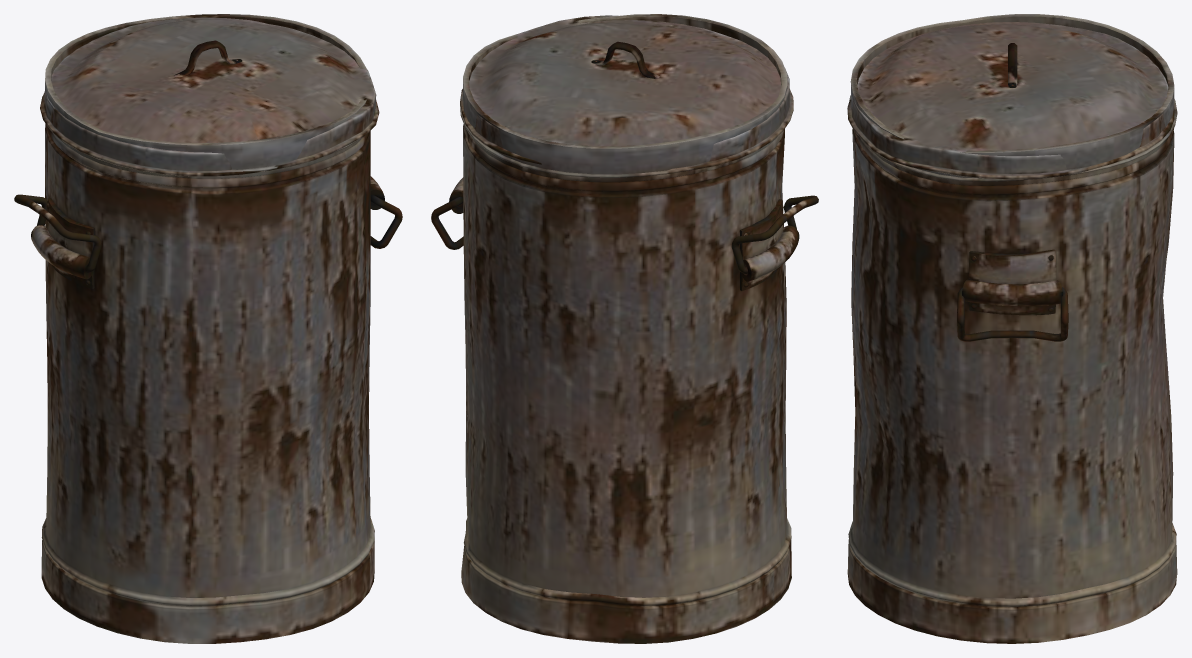
The model's file is trash-can.glb.
3 views of the same model, side by side, from view 1: azimuth 30°, elevation 25°; view 2: azimuth 150°, elevation 25°; view 3: azimuth 270°, elevation 25° (orthographic).
Parts seen in each view (by area): view 1: metal_trash_can_rust, metal_trash_can_rust_lid, metal_trash_can_rust_handle_left, metal_trash_can_rust_handle_right; view 2: metal_trash_can_rust, metal_trash_can_rust_lid, metal_trash_can_rust_handle_left, metal_trash_can_rust_handle_right; view 3: metal_trash_can_rust, metal_trash_can_rust_lid, metal_trash_can_rust_handle_right.
Part boxes in pixels (x1,y1,x2,y2): metal_trash_can_rust: (31, 14, 384, 643); metal_trash_can_rust_lid: (40, 17, 379, 176); metal_trash_can_rust_handle_left: (14, 194, 101, 272); metal_trash_can_rust_handle_right: (370, 195, 402, 248); metal_trash_can_rust: (449, 14, 799, 643); metal_trash_can_rust_lid: (460, 15, 793, 170); metal_trash_can_rust_handle_left: (731, 195, 818, 273); metal_trash_can_rust_handle_right: (431, 196, 463, 249); metal_trash_can_rust: (847, 14, 1177, 643); metal_trash_can_rust_lid: (847, 22, 1174, 179); metal_trash_can_rust_handle_right: (957, 287, 1068, 341).
Size of the model in its own units: 0.6454 by 0.968 by 0.549.
Materials: 2 (2 with a texture image).
